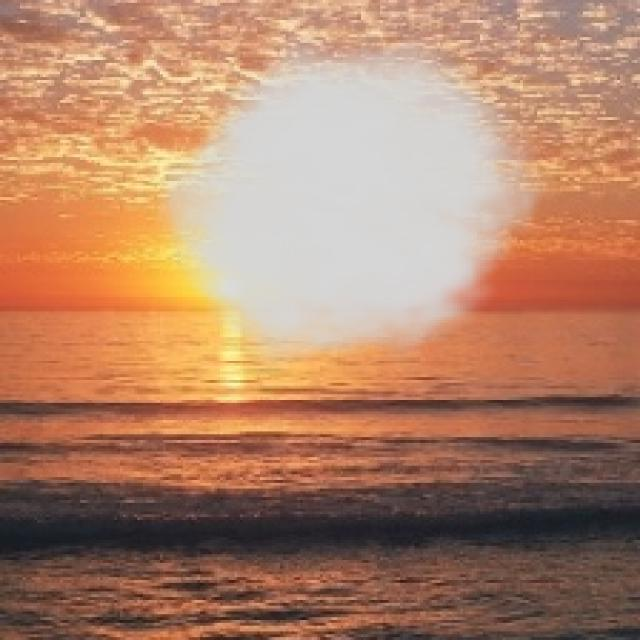smoke: (143, 34, 557, 377)
